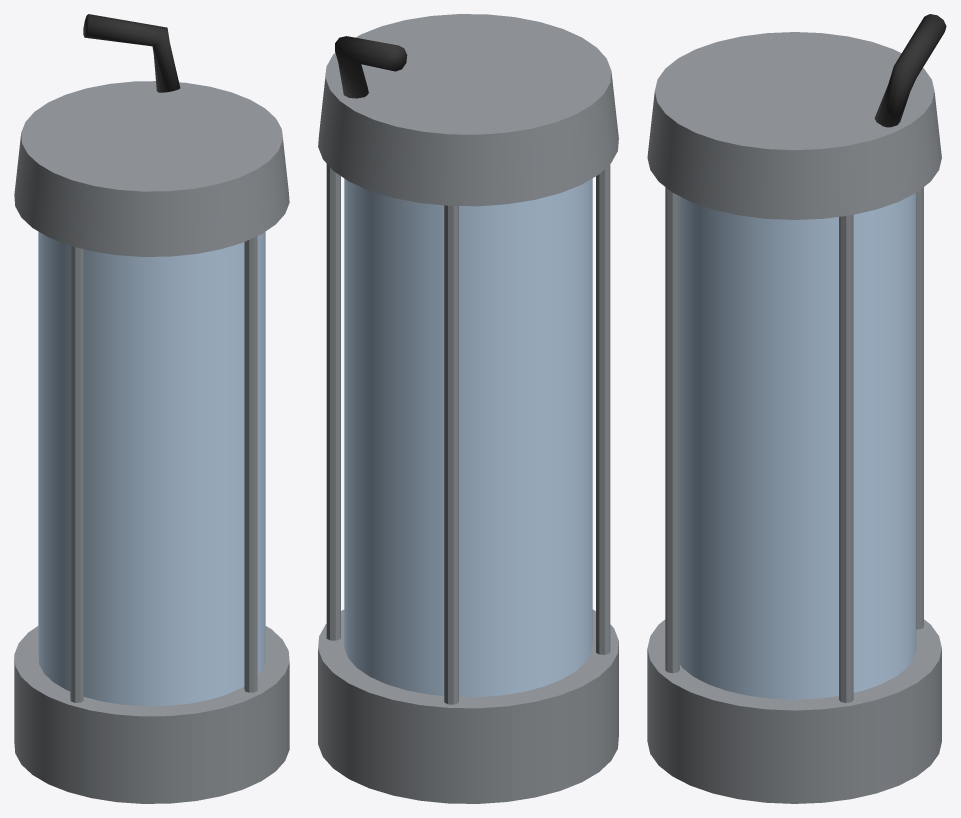
The model's file is specimen_tank.glb.
The picture shows the model from 3 angles, left to right: view 1: azimuth 30°, elevation 25°; view 2: azimuth 150°, elevation 25°; view 3: azimuth 270°, elevation 25°; orthographic projection. The views are drawn at different scales.
Parts seen in each view (by area): view 1: specimen_tank; view 2: specimen_tank; view 3: specimen_tank.
Part boxes in pixels (x1,y1,x2,y2): specimen_tank: (14, 14, 289, 803); specimen_tank: (318, 14, 618, 803); specimen_tank: (647, 14, 946, 803).
Bounding box in the file's own units: 0.8 × 2.18 × 0.8125.
